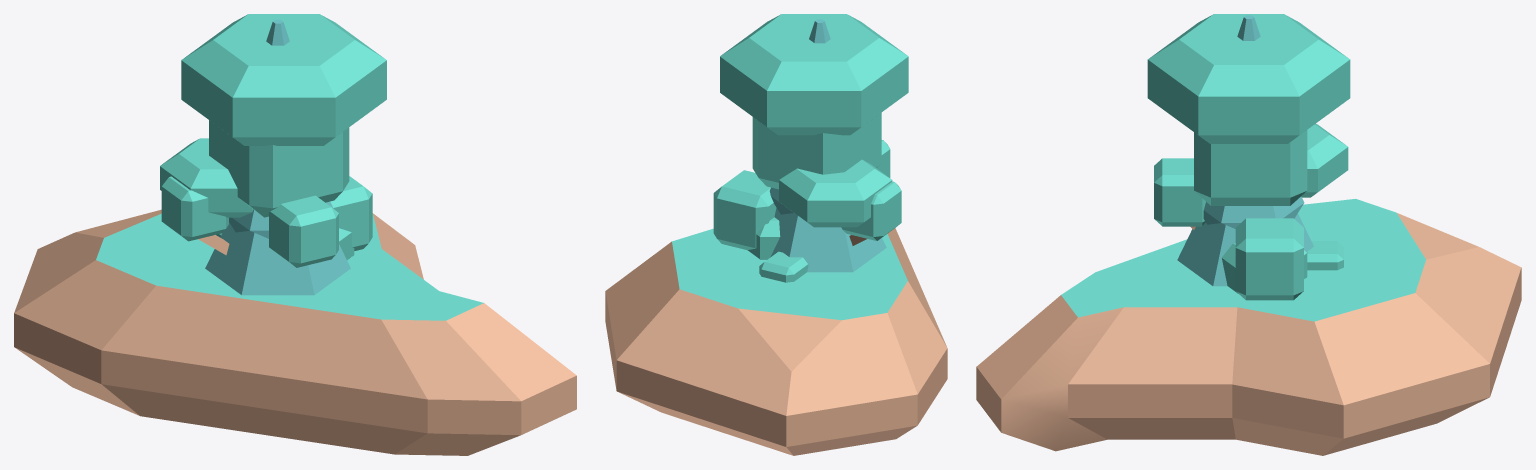
Rendered from nature.glb.
3 views of the same model, side by side, from view 1: azimuth 30°, elevation 25°; view 2: azimuth 150°, elevation 25°; view 3: azimuth 270°, elevation 25° (orthographic). The views are drawn at different scales.
Parts seen in each view (by area): view 1: rock, pine, oak, cypress; view 2: rock, pine, oak, cypress; view 3: rock, pine, oak, cypress.
Part boxes in pixels (<box>): rock: <box>14,209,576,455</box>; pine: <box>160,14,386,259</box>; oak: <box>161,120,372,267</box>; cypress: <box>205,19,350,295</box>; rock: <box>605,228,947,455</box>; pine: <box>720,14,908,259</box>; oak: <box>713,113,901,282</box>; cypress: <box>769,19,886,272</box>; rock: <box>976,198,1521,455</box>; pine: <box>1147,14,1350,293</box>; oak: <box>1154,130,1343,300</box>; cypress: <box>1177,15,1313,286</box>.
Bounding box in the file's own units: 3.93 × 3.8 × 5.08.
